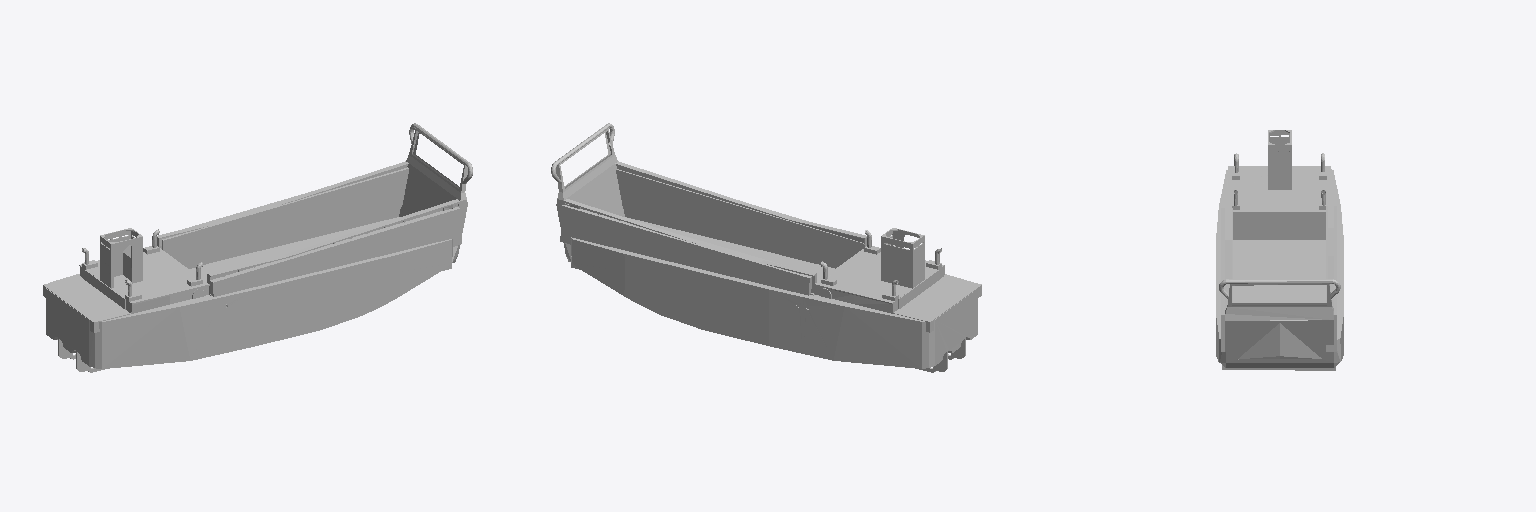
File: lcp_1.obj
3 views of the same model, side by side, from view 1: azimuth 30°, elevation 25°; view 2: azimuth 150°, elevation 25°; view 3: azimuth 270°, elevation 25° (orthographic).
Parts seen in each view (by area): view 1: Mesh112, clips, Mesh1; view 2: Mesh112, clips, Mesh1; view 3: Mesh112, Mesh1, clips.
Part boxes in pixels (x1,y1,x2,y2): Mesh112: (46,161,459,372); clips: (43,167,461,332); Mesh1: (399,123,472,262); Mesh112: (564,161,977,372); clips: (560,169,981,332); Mesh1: (551,123,624,262); Mesh112: (1216,130,1343,362); Mesh1: (1219,279,1340,367); clips: (1221,166,1336,370).
Size of the model in its own units: 559 by 191 by 165.